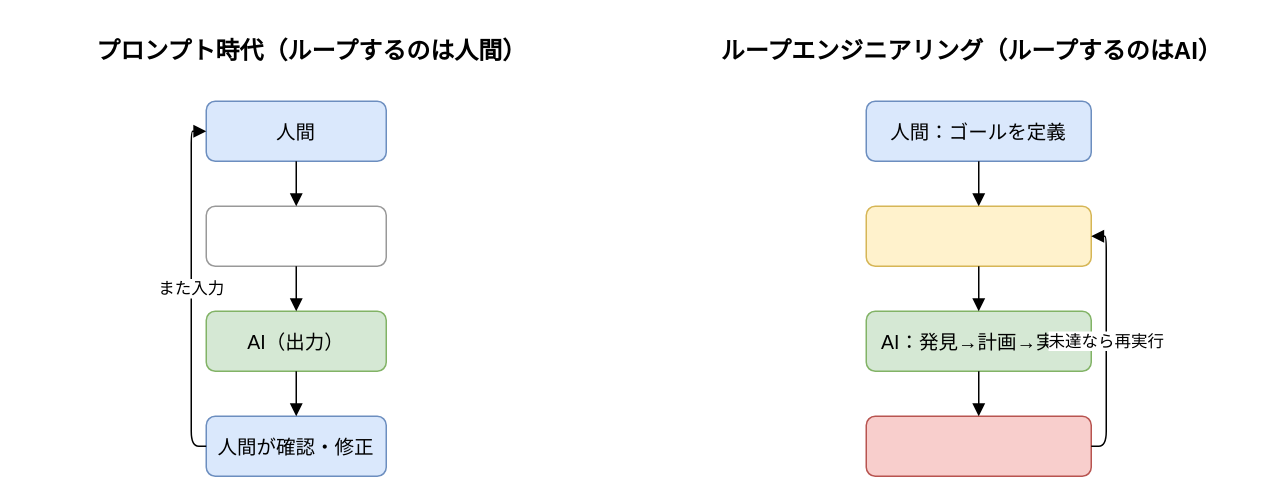
Some shapes in this 1281 by 503 pixel diagram are drawn without their labels. Here are the shapes that lost their labels. From the top down, the centre of each, then its label:
(295,235): プロンプト
(978,235): ループ（仕組み）
(978,445): 検証ゲート
